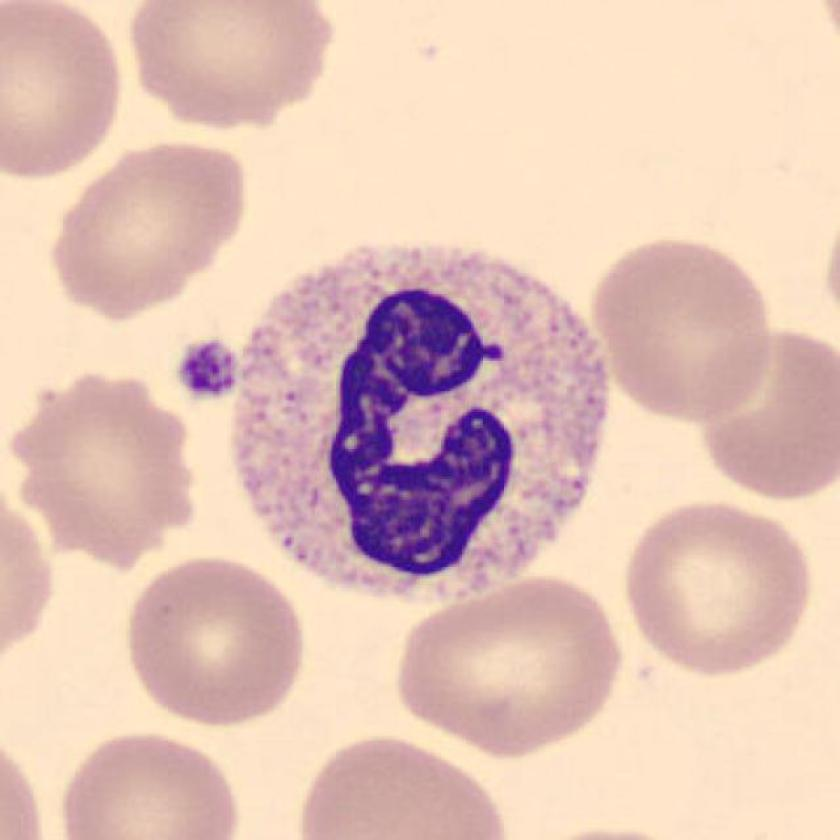neutrophil: (231, 249, 605, 593)
